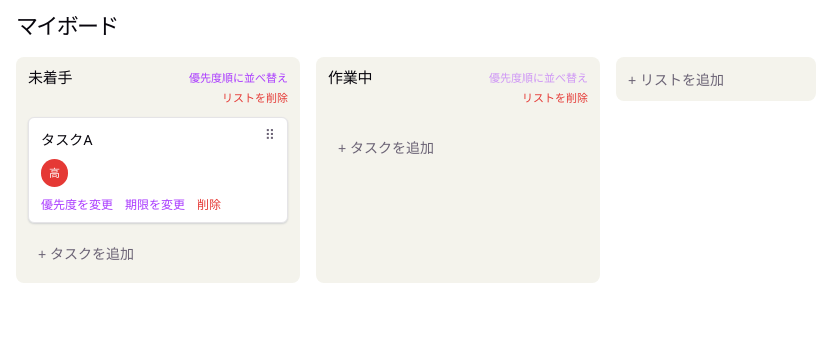
Test: Board › 優先度順並べ替えが失敗した場合、リスト内にエラーメッセージを表示する
Expected: the text "タスクA" is shown, [41, 130, 93, 149]
Click the button "優先度順に並べ替え" next to "未着手": click(238, 77) [189, 69, 288, 85]
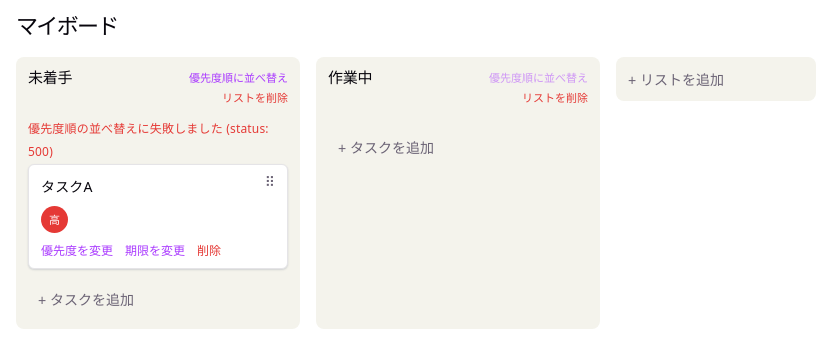
Expected: the text "優先度順の並べ替えに失敗しました (status: 500)" is shown, [28, 117, 288, 164]
